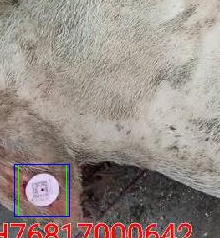text: (18, 164, 66, 216)
